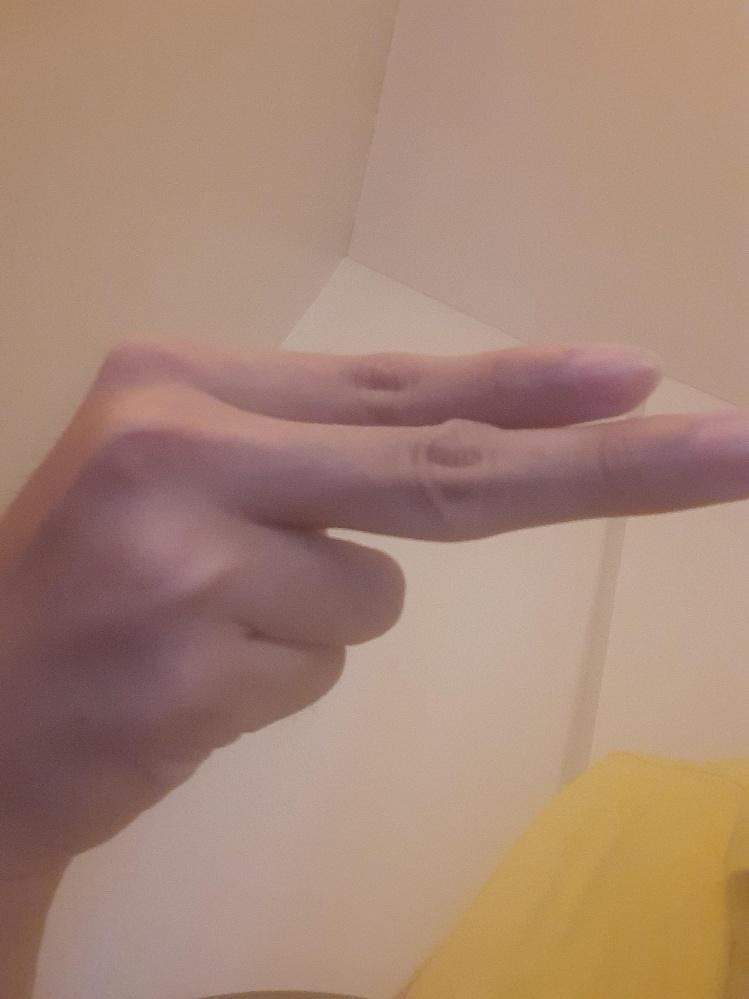h: (54, 336, 749, 859)
